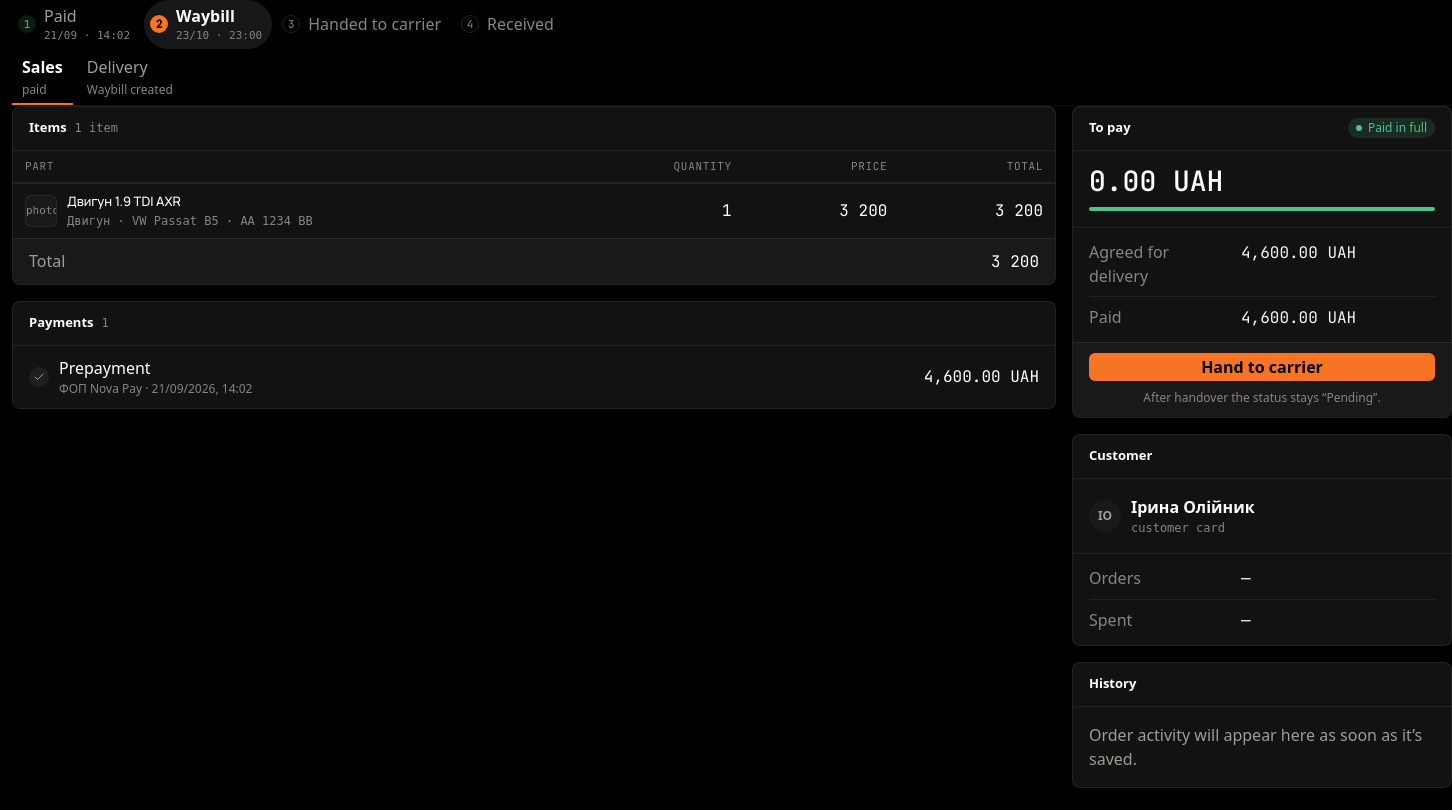
speaks British English on both halves of the card
Check: the list named "Delivery stages" is shown, box [18,0,554,48]
Check: the element "Items" is shown, box [12,106,1056,284]
Click the tab "Delivery Waybill created" at (130, 76), box [77,48,183,104]
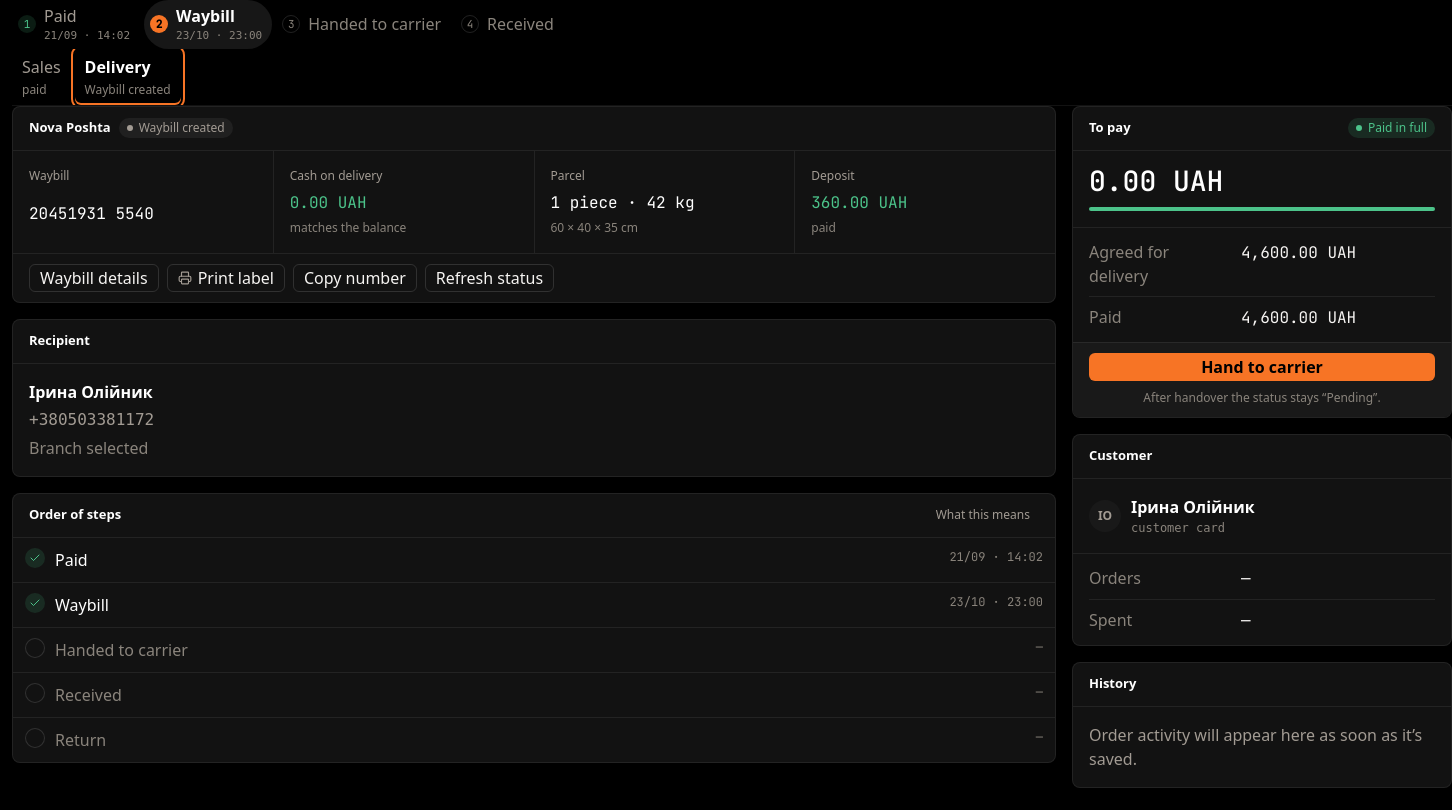
Check: the text "Waybill created" next to "Nova Poshta" is shown, box [139,119,225,136]
Check: the text "1 piece · 42 kg" is shown, box [550,192,694,212]
Check: the button "Waybill details" is shown, box [29,264,159,292]
